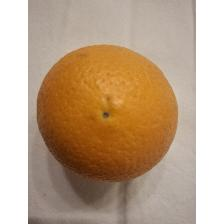Mandarine: (33, 42, 182, 186)
